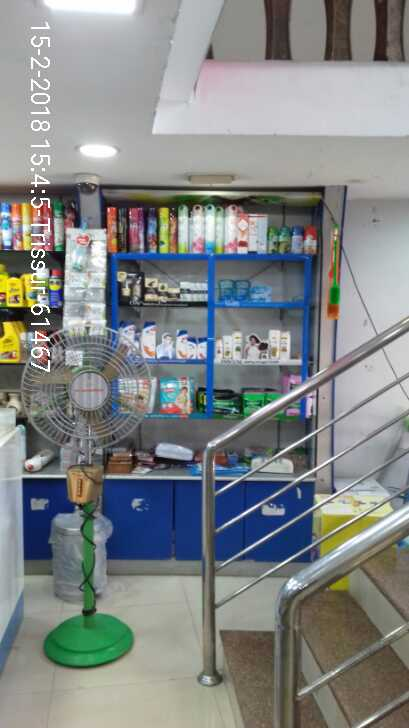venus: (250, 281, 272, 302), (219, 280, 235, 301), (235, 279, 249, 301)
